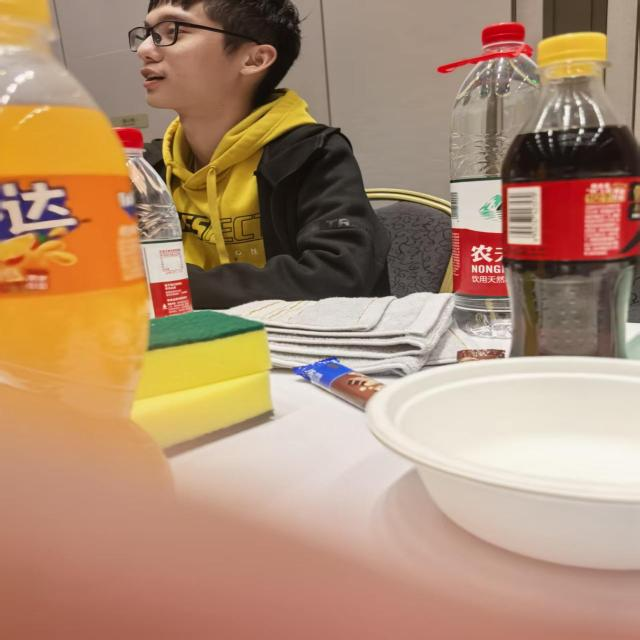orange: (0, 178, 92, 278)
